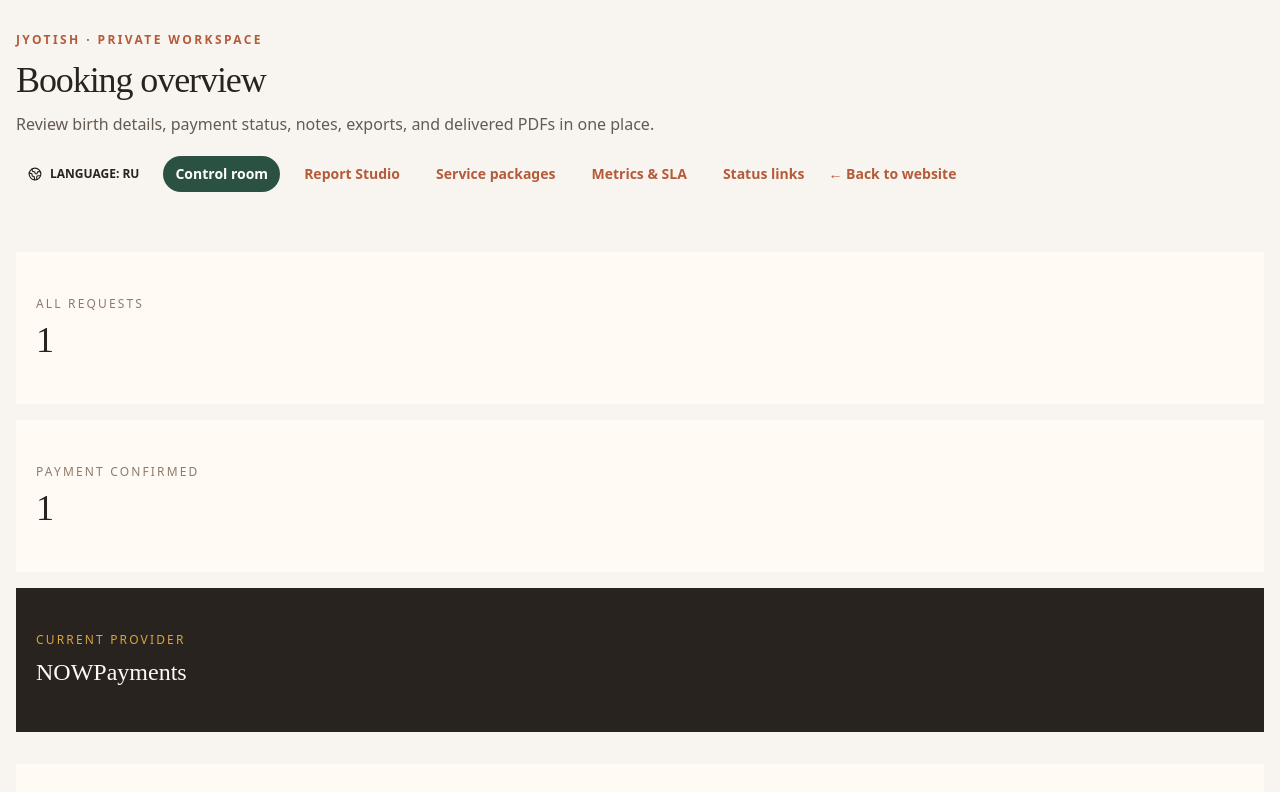
Scenario: Admin interactions › toggles RU/EN labels and persists admin-locale
Click the button "Language: RU" at (84, 174), box [16,158,152,190]
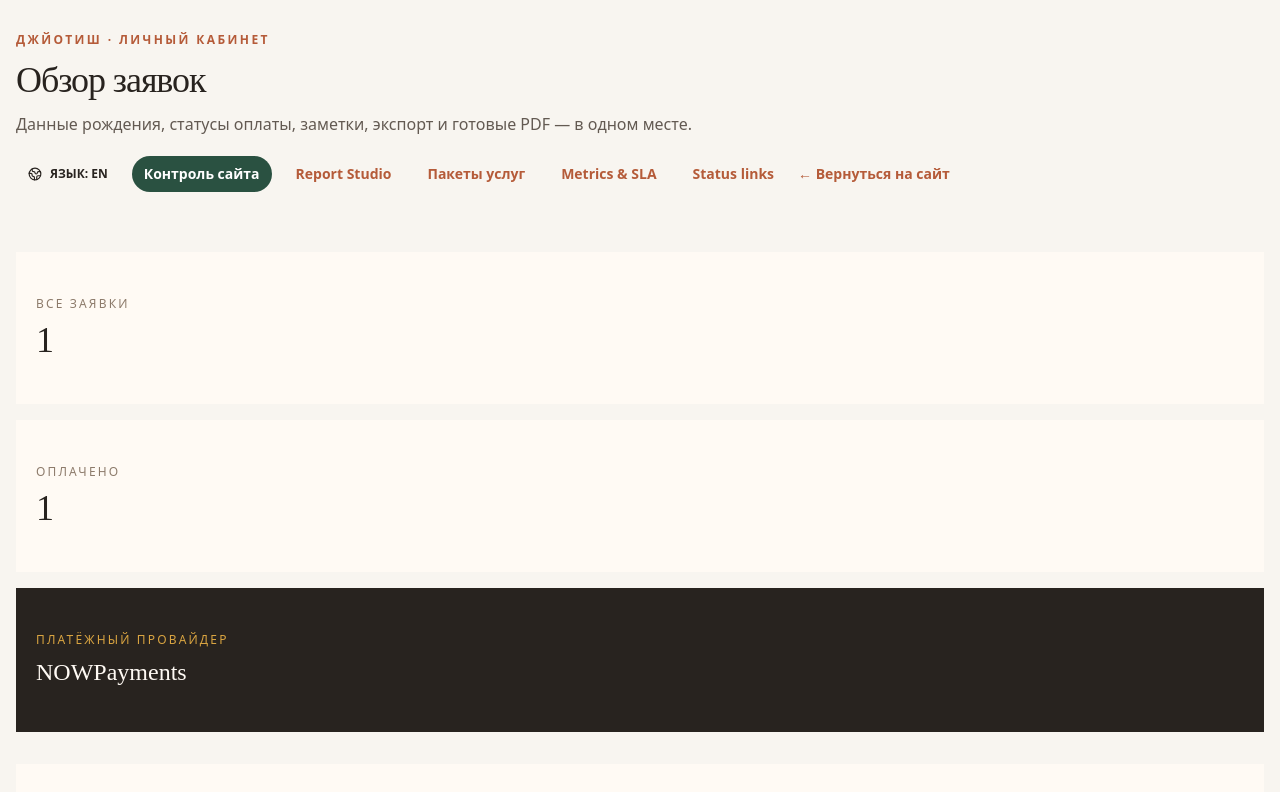
Now the heading "Обзор заявок" is shown, box [16,60,205,100]
